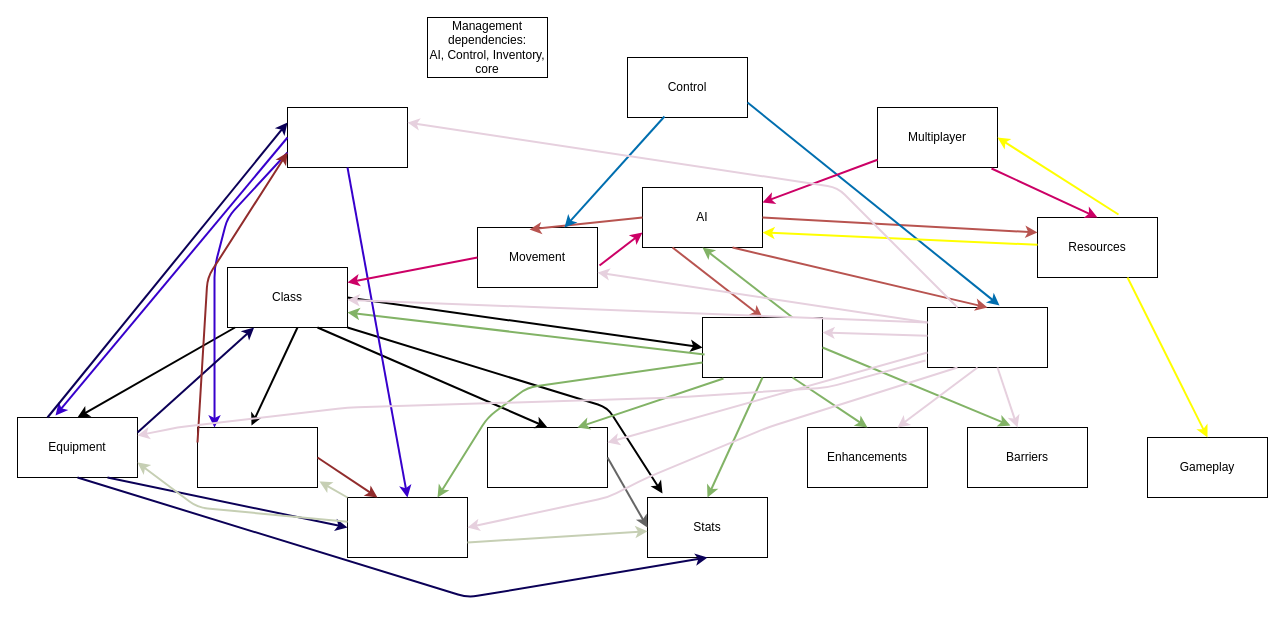
Some shapes in this 1285 by 624 pixel diagram are drawn without their labels. The centre of each missing label's shape, as x and y in pixels:
"Buffs" goes at (x=547, y=457).
"Combat" goes at (x=762, y=347).
"Core" goes at (x=347, y=137).
"Inventory" goes at (x=257, y=457).
"Item" goes at (x=407, y=527).
"Skill" goes at (x=987, y=337).
